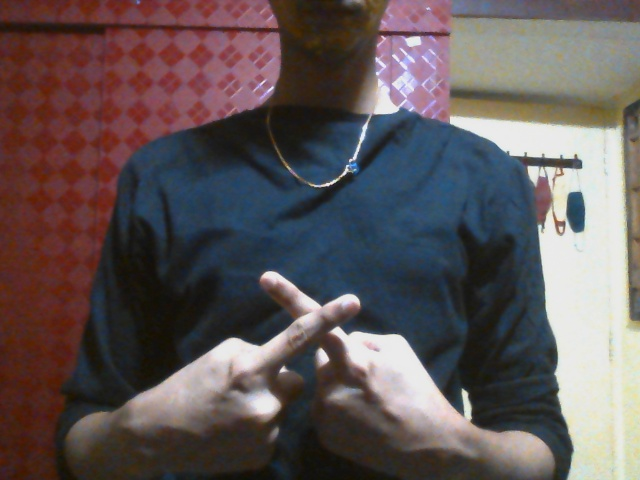X: (164, 271, 453, 478)
